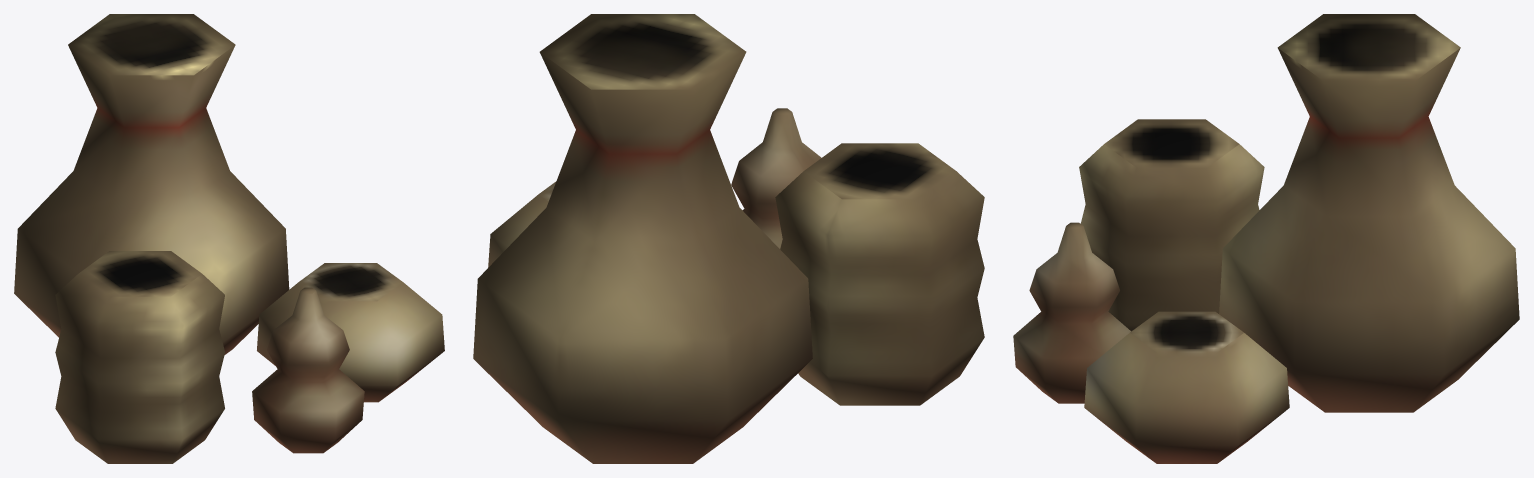
Rendered from pingzi02.FBX.
3 views of the same model, side by side, from view 1: azimuth 30°, elevation 25°; view 2: azimuth 150°, elevation 25°; view 3: azimuth 270°, elevation 25° (orthographic). The views are drawn at different scales.
Visible parts, largest first — view 1: pingzi02; view 2: pingzi02; view 3: pingzi02.
Part boxes in pixels (left/top/right/bottom): pingzi02: left=14, top=14, right=444, bottom=463; pingzi02: left=473, top=14, right=984, bottom=463; pingzi02: left=1013, top=14, right=1519, bottom=463.
Size of the model in its own units: 47.8 by 39.54 by 54.55.
